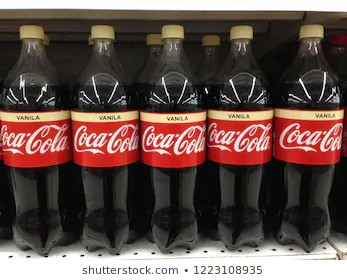coke-bottle-2l: (141, 16, 213, 257), (1, 16, 73, 255), (76, 18, 141, 256), (274, 11, 338, 250), (213, 16, 274, 250)
